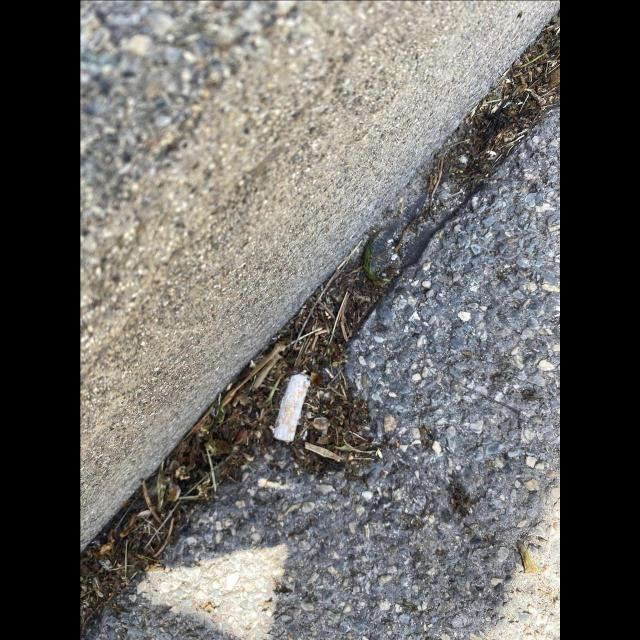cigarette: (272, 372, 310, 442)
